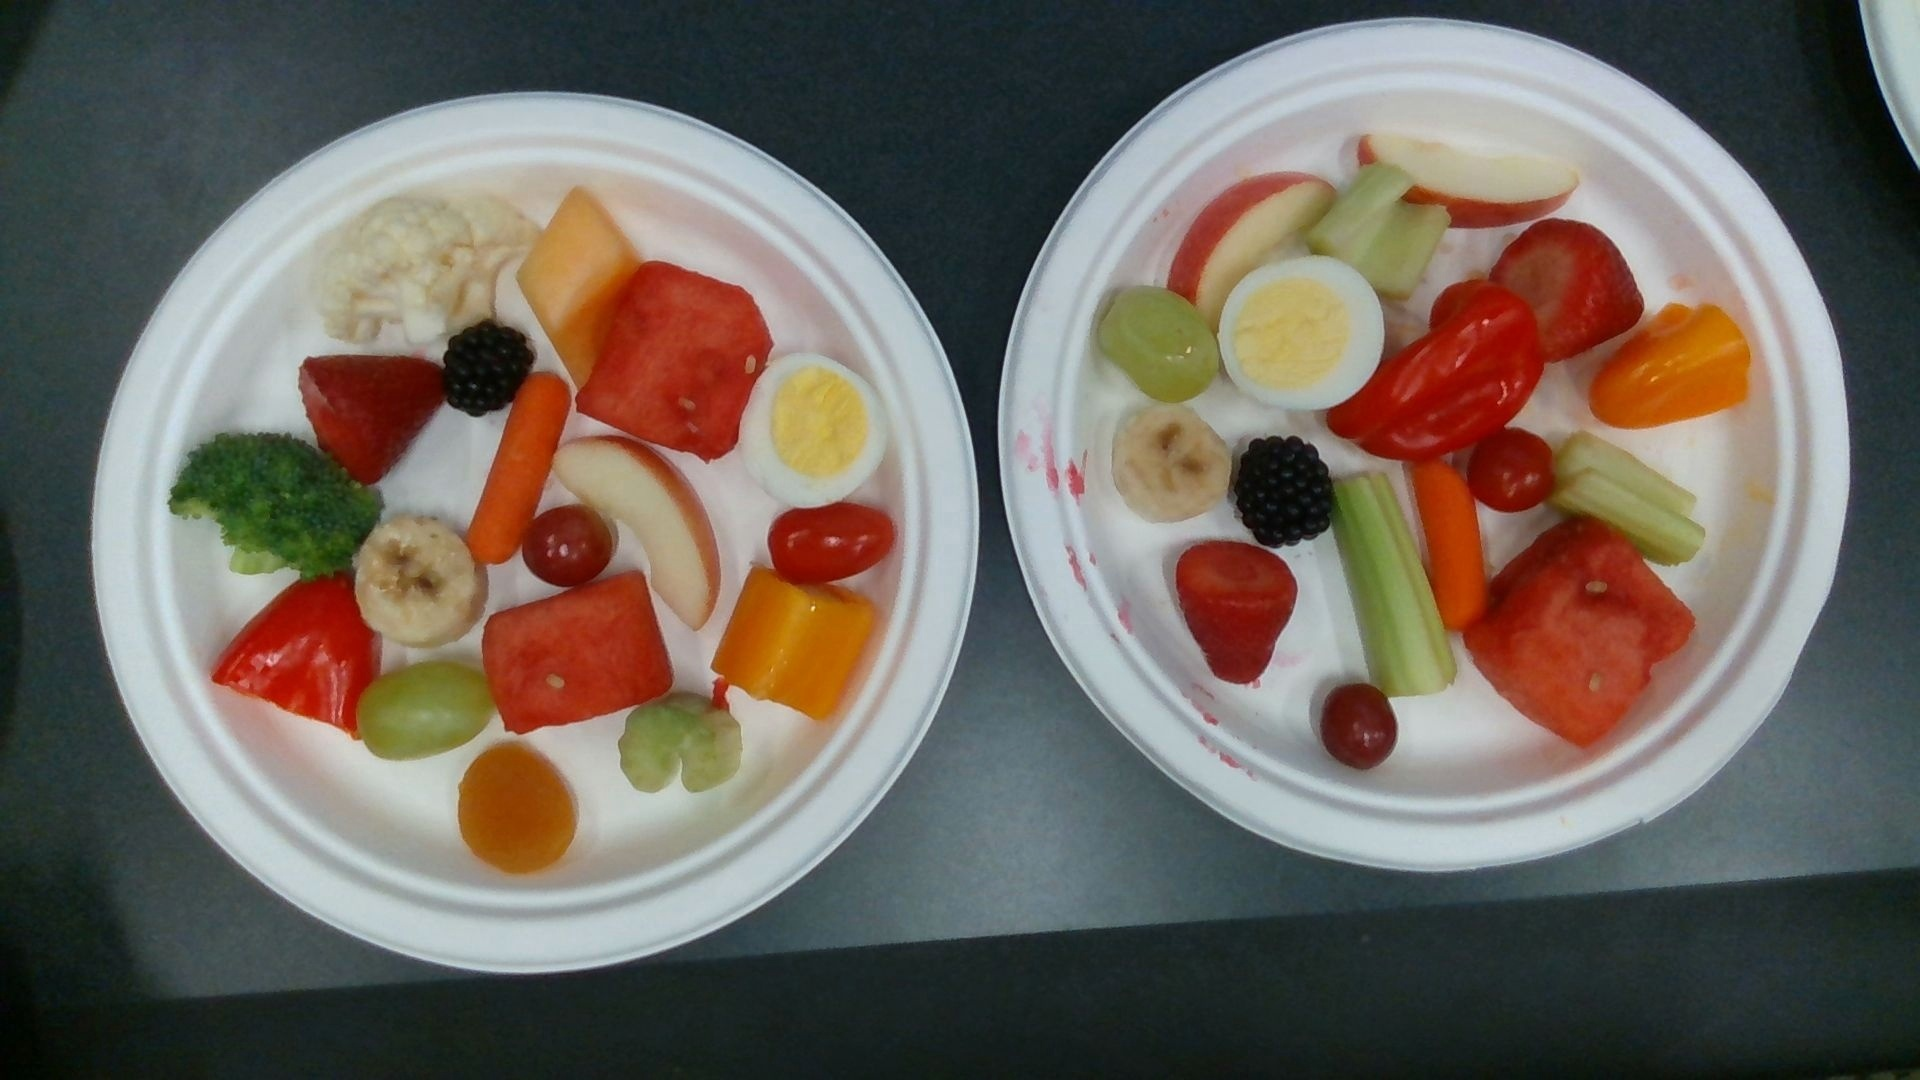apple: (1170, 175, 1335, 310), (1357, 131, 1582, 223)
apricot: (462, 741, 580, 878)
banana: (357, 521, 480, 645), (1114, 411, 1232, 524)
bell_pepper: (1329, 284, 1544, 456), (214, 575, 380, 733), (712, 568, 876, 720), (1589, 305, 1749, 429)
blackberry: (1236, 438, 1327, 543), (444, 320, 531, 413)
broccoli: (164, 433, 382, 575)
cantalope: (520, 193, 636, 361)
carrot: (472, 376, 570, 560), (1410, 455, 1485, 628)
cauliflower: (320, 196, 537, 338)
celery: (1331, 471, 1455, 694), (1549, 433, 1702, 566), (1309, 167, 1447, 295), (618, 698, 742, 793)
cherry_tomato: (770, 508, 897, 580), (1474, 430, 1552, 513)
egg: (742, 353, 889, 508)
grape_green: (1097, 284, 1220, 400), (357, 665, 491, 758)
grape_purple: (1320, 684, 1400, 770), (527, 510, 611, 585)
melon: (1460, 518, 1692, 745), (578, 265, 770, 458), (485, 575, 674, 727)
strawberry: (1491, 220, 1642, 357), (299, 351, 439, 480), (1178, 543, 1299, 676)
